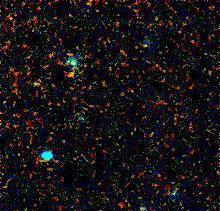star: (54, 64, 84, 94)
